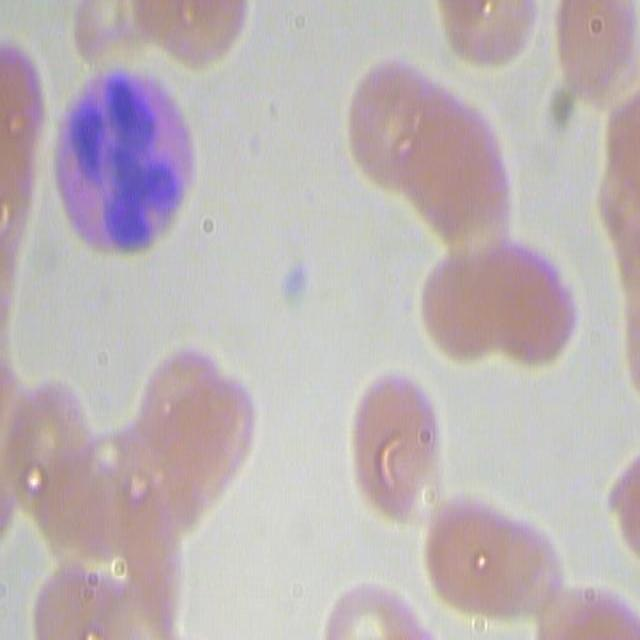RBC: (106, 340, 254, 528), (347, 56, 498, 219), (422, 234, 583, 371), (424, 497, 563, 628), (344, 368, 443, 526), (51, 541, 199, 640), (11, 379, 91, 506), (125, 0, 258, 73), (552, 1, 640, 108), (581, 130, 640, 288), (438, 0, 544, 68), (316, 578, 418, 640)
WBC: (56, 71, 202, 259)
platelets: (274, 255, 318, 321)
